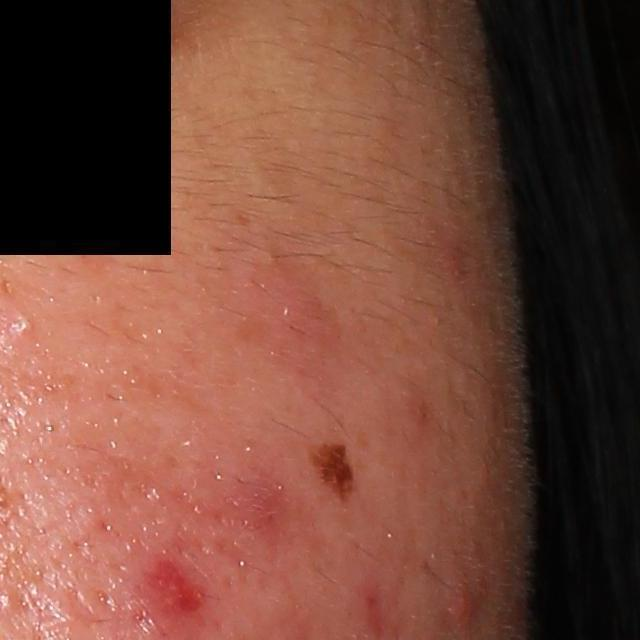nevus: (301, 442, 360, 505)
papule: (124, 558, 208, 638), (446, 576, 491, 636), (239, 478, 283, 531)
